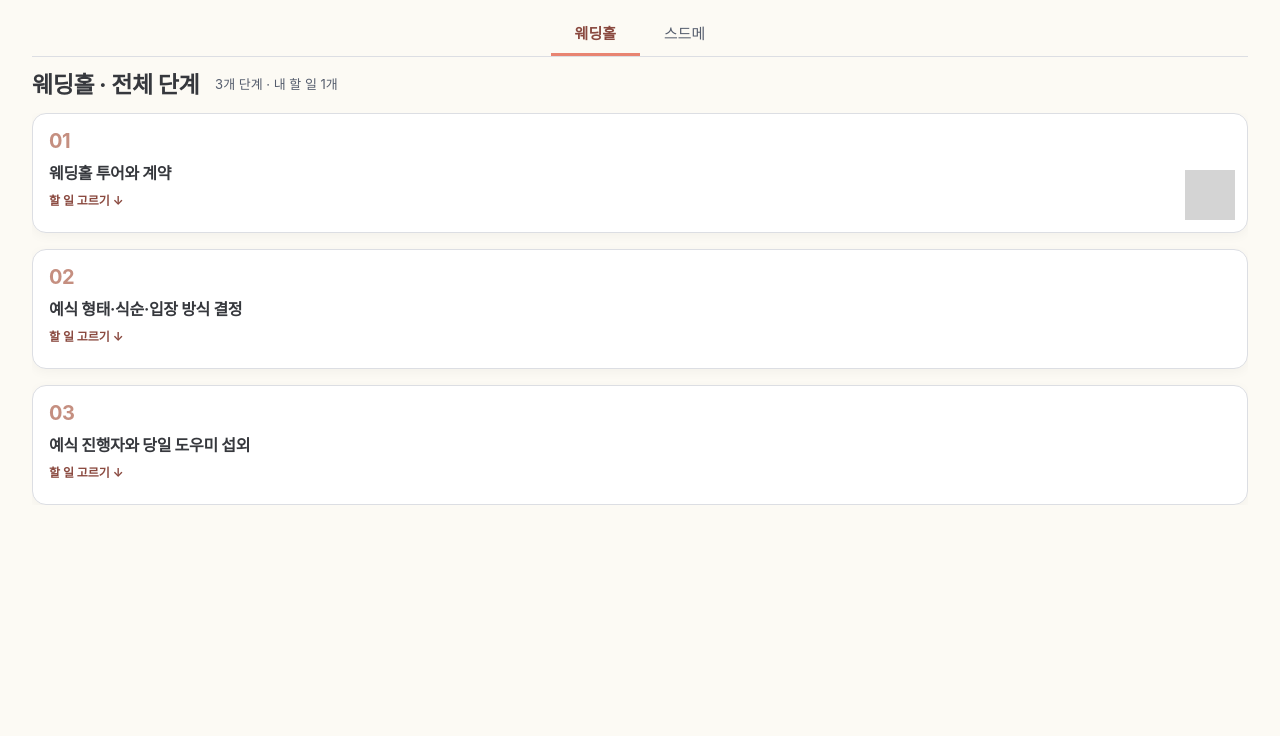
Test: AllPreparationStepsFeature 비로그인 체크리스트 › 현재 단계의 남은 할 일을 모두 로컬 체크리스트에 추가한다
Expected: the heading "웨딩홀 · 전체 단계" is shown, [32,69,199,101]
Click the button "01 웨딩홀 투어와 계약 할 일 고르기 ↓" at (110, 173), box [32,113,1248,233]
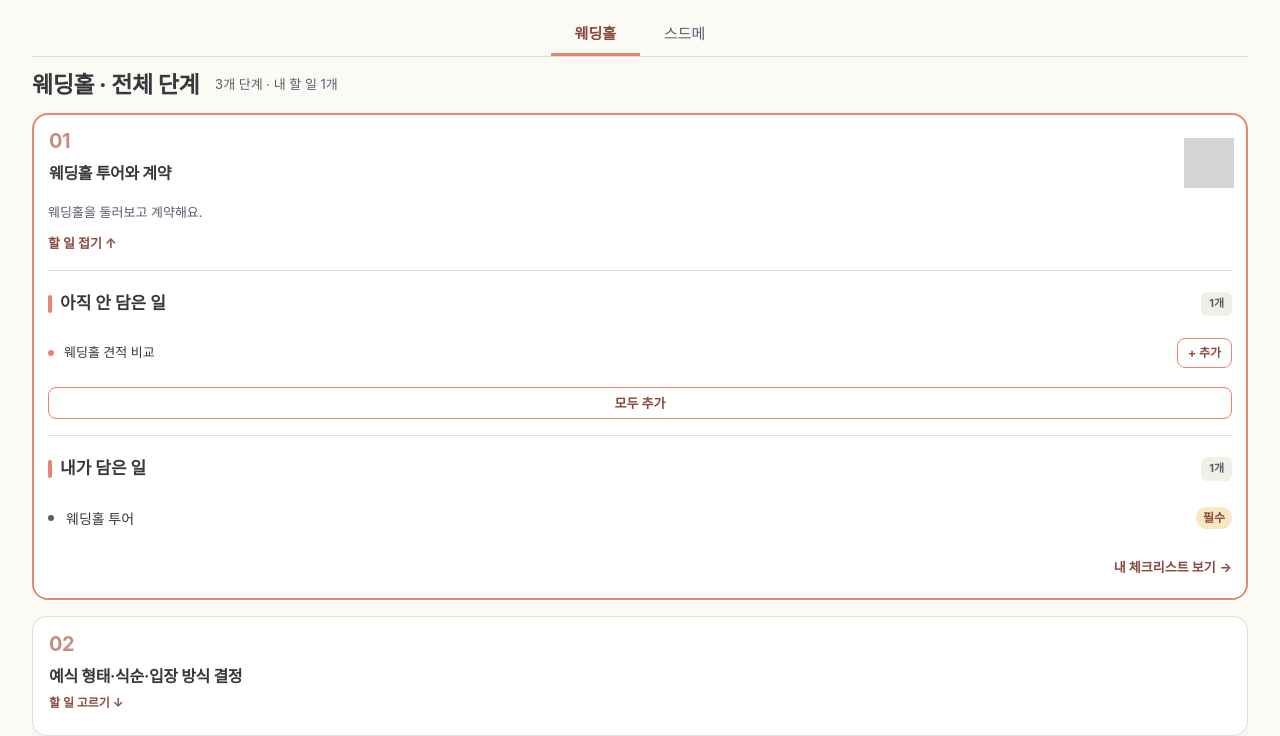
Click the button "모두 추가" at (640, 403), box [48,387,1232,419]
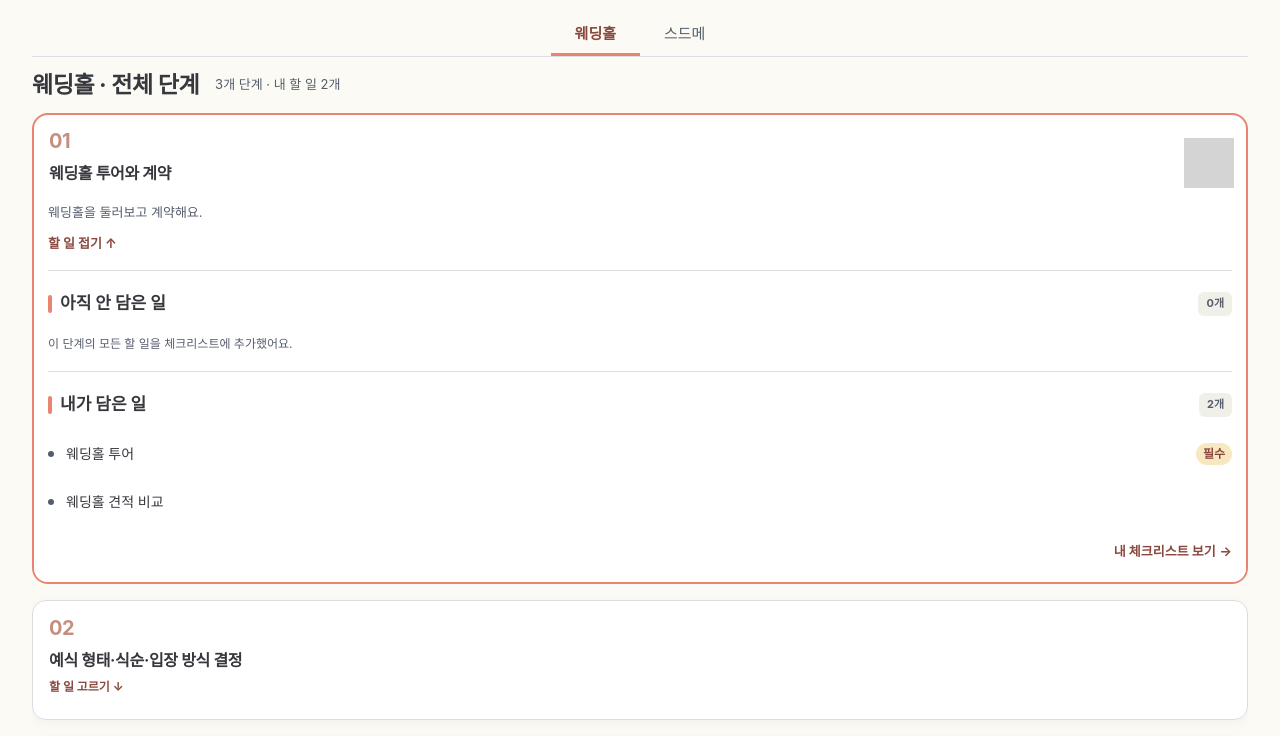
Expected: the text "이 단계의 모든 할 일을 체크리스트에 추가했어요." is shown, [48,335,292,353]
Expected: the button "모두 추가" is gone
